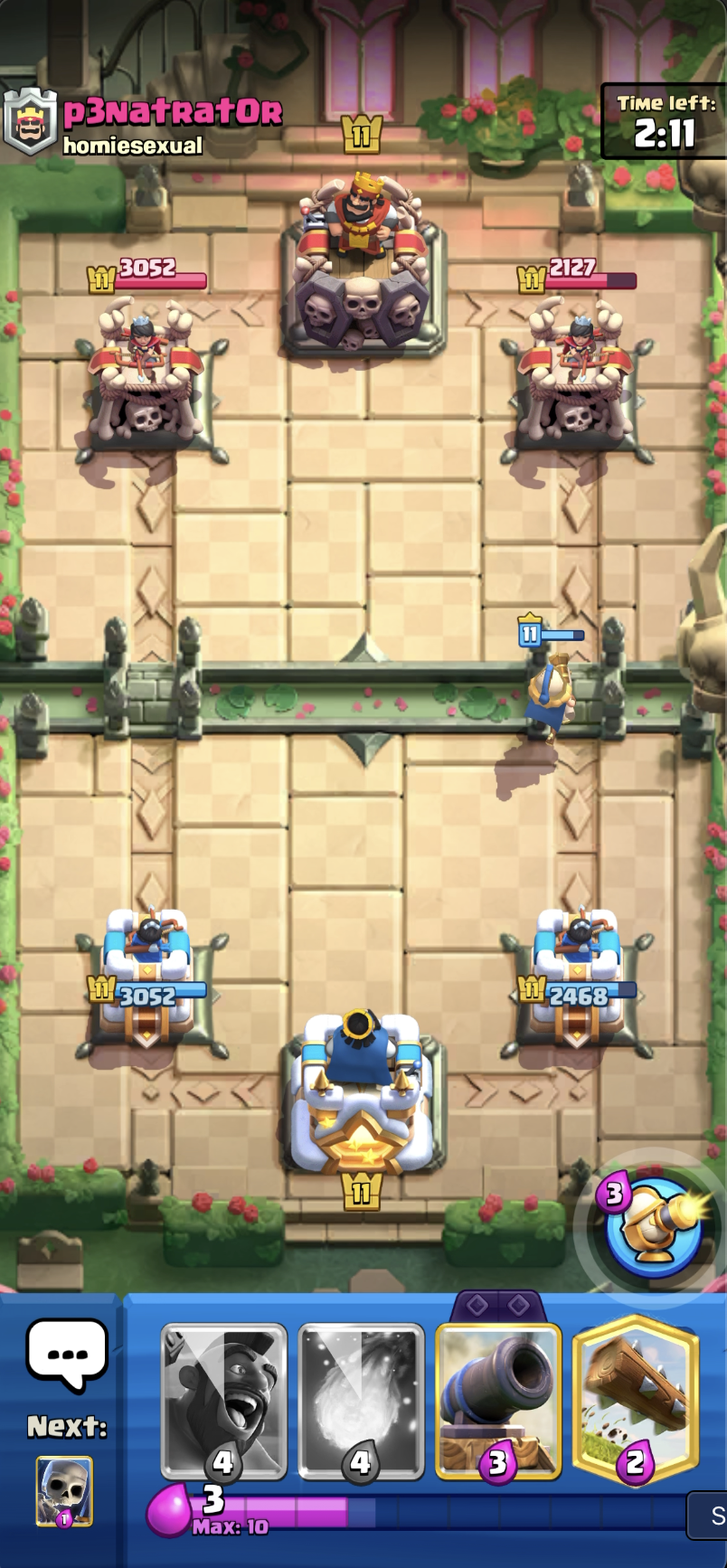hero-musketeer: (514, 606, 594, 739)
